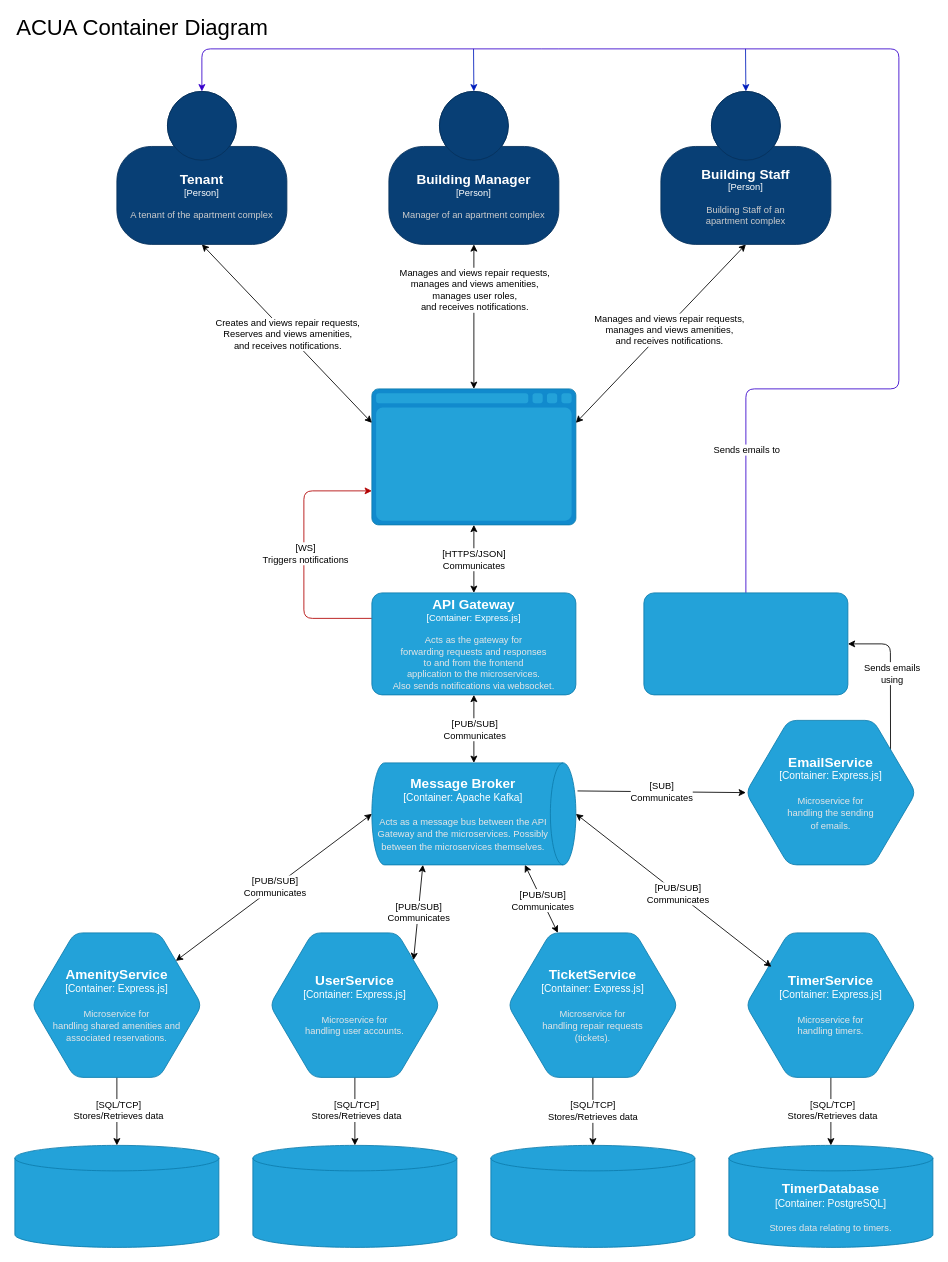
Some shapes in this 948 by 1262 pixel diagram are drawn without their labels. Each missing label, with the centre of its shape:
"ACUA Frontend [Container: React] React SPA for interacting with ACUA." goes at point 473,456.
"AmenityDatabase [Container: PostgreSQL] Stores data relating to amenities." goes at point 116,1196.
"Email Server [Container: TBD] Sends emails to the users." goes at point 745,643.
"TicketDatabase [Container: PostgreSQL] Stores data relating to tickets." goes at point 592,1196.
"UserDatabase [Container: PostgreSQL] Stores data relating to users and accounts." goes at point 354,1196.
